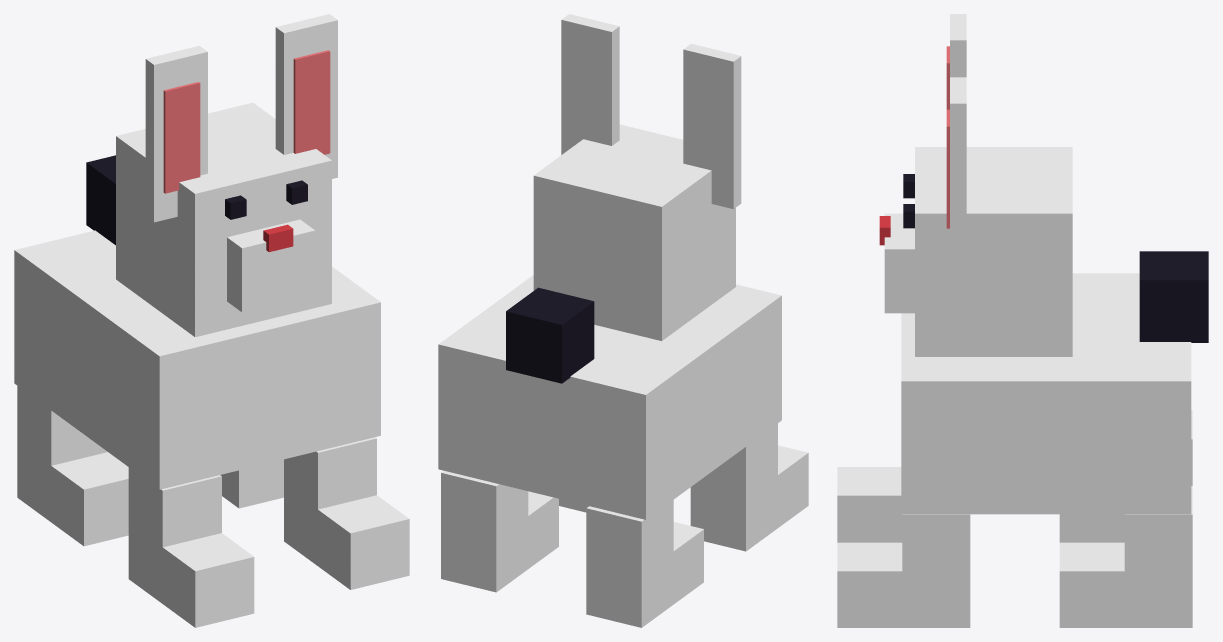
The model's file is animal10.fbx.
3 views of the same model, side by side, from view 1: azimuth 30°, elevation 25°; view 2: azimuth 150°, elevation 25°; view 3: azimuth 270°, elevation 25° (orthographic). The views are drawn at different scales.
Parts seen in each view (by area): view 1: Rabbit; view 2: Rabbit; view 3: Rabbit.
Part boxes in pixels (x1,y1,x2,y2): Rabbit: (14, 14, 409, 627); Rabbit: (438, 14, 808, 627); Rabbit: (837, 14, 1208, 627).
Size of the model in its own units: 0.8994 by 2.01 by 1.31.
